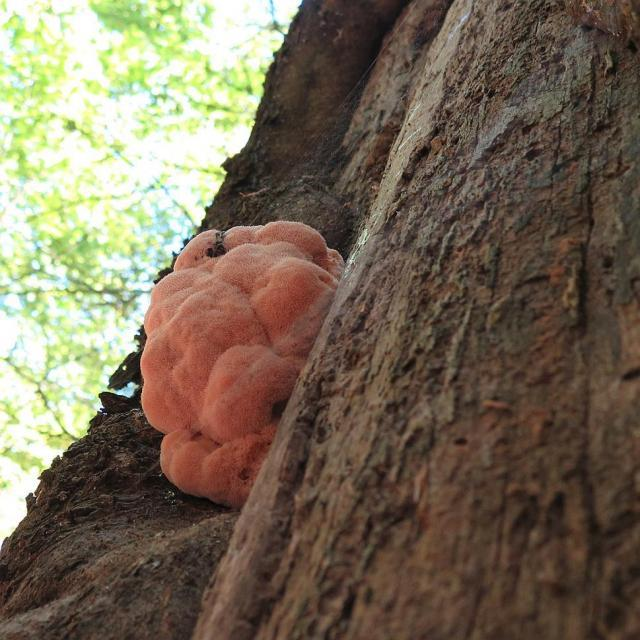Hericium erinaceus: (139, 219, 345, 502)
